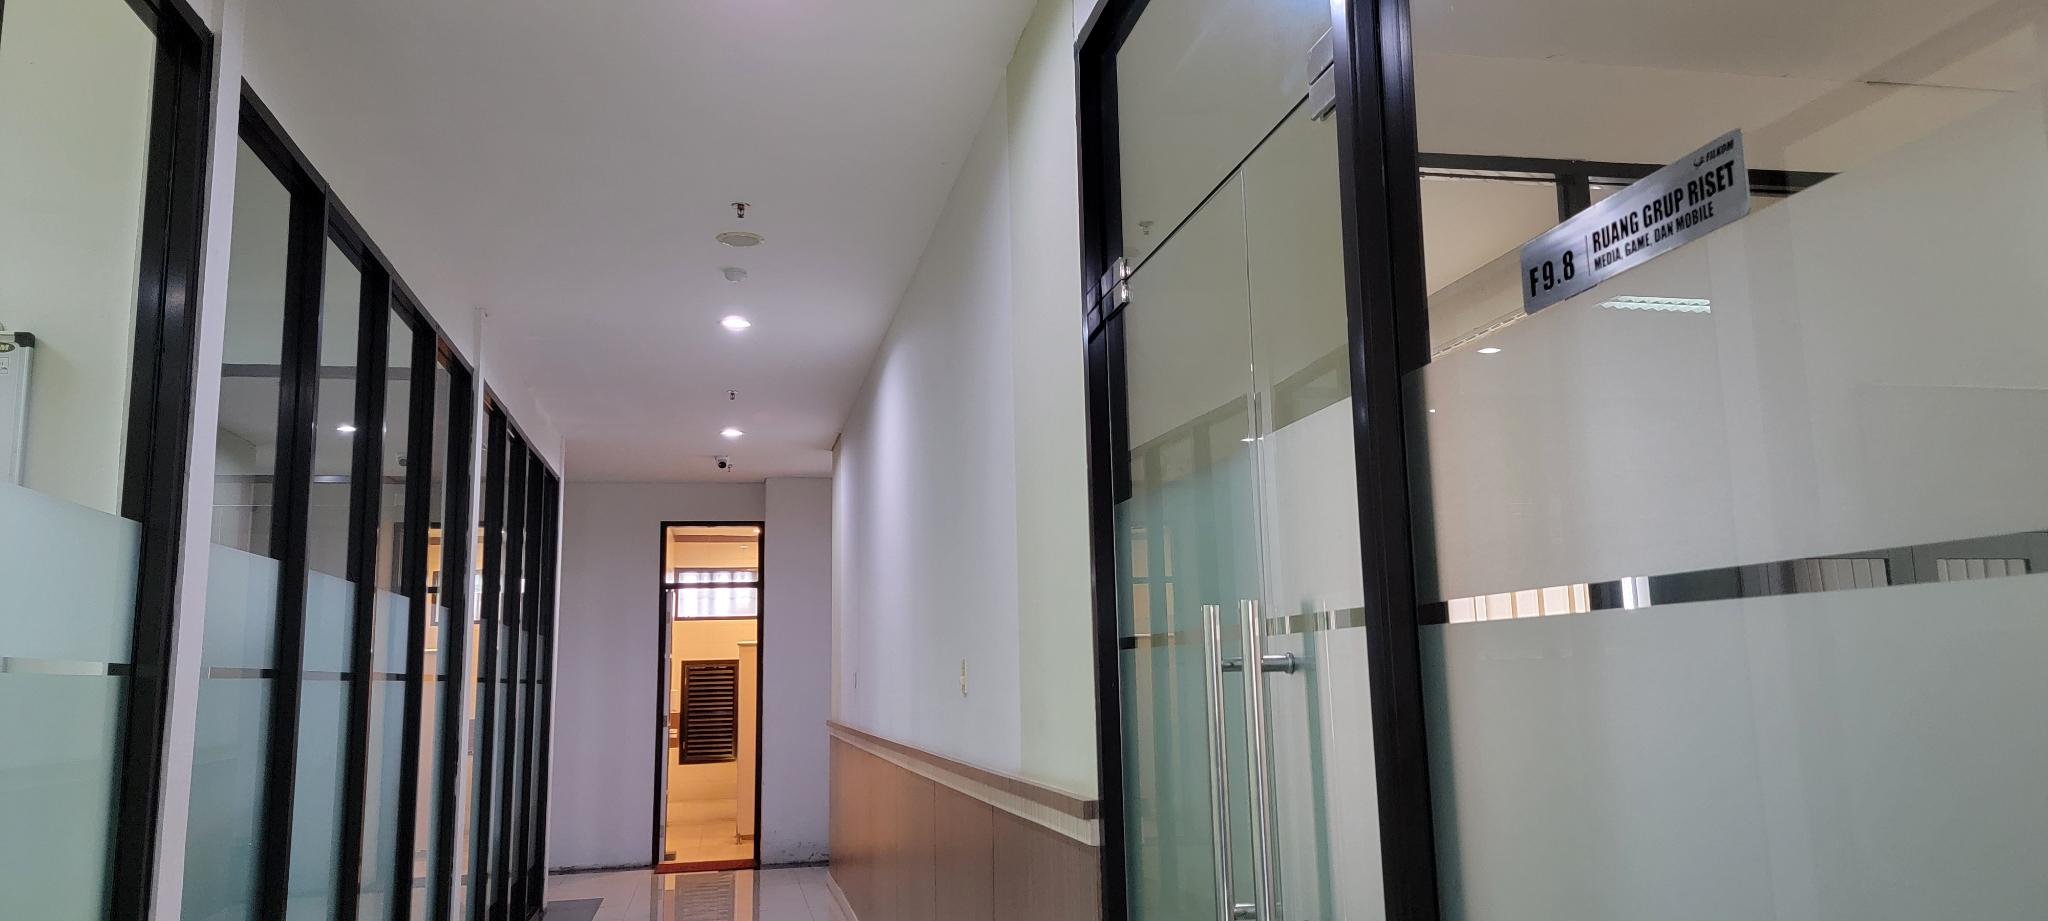plate: (1515, 127, 1753, 317)
